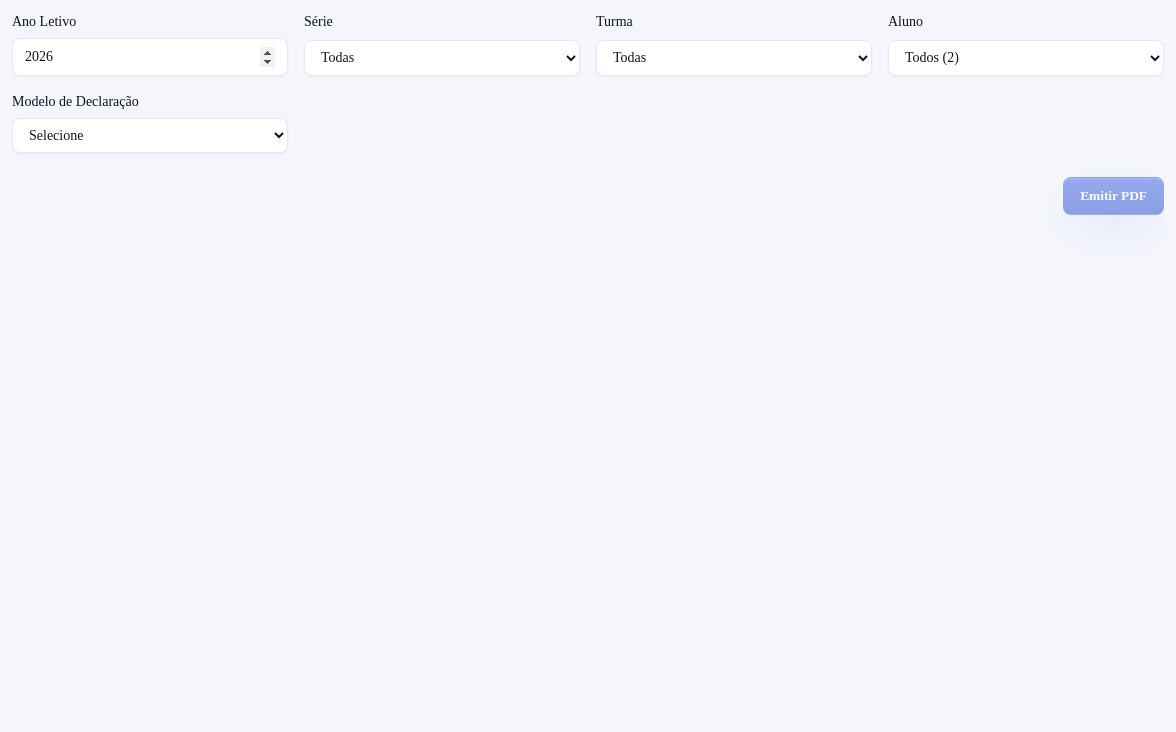
DeclaracaoEmissaoForm › emissão em lote (sem aluno selecionado): campos de pré-visualização ficam somente leitura
Select "Declaração de Frequência" in the dropdown labelled "Modelo de Declaração". click: x=150, y=136
box: [12, 118, 288, 153]
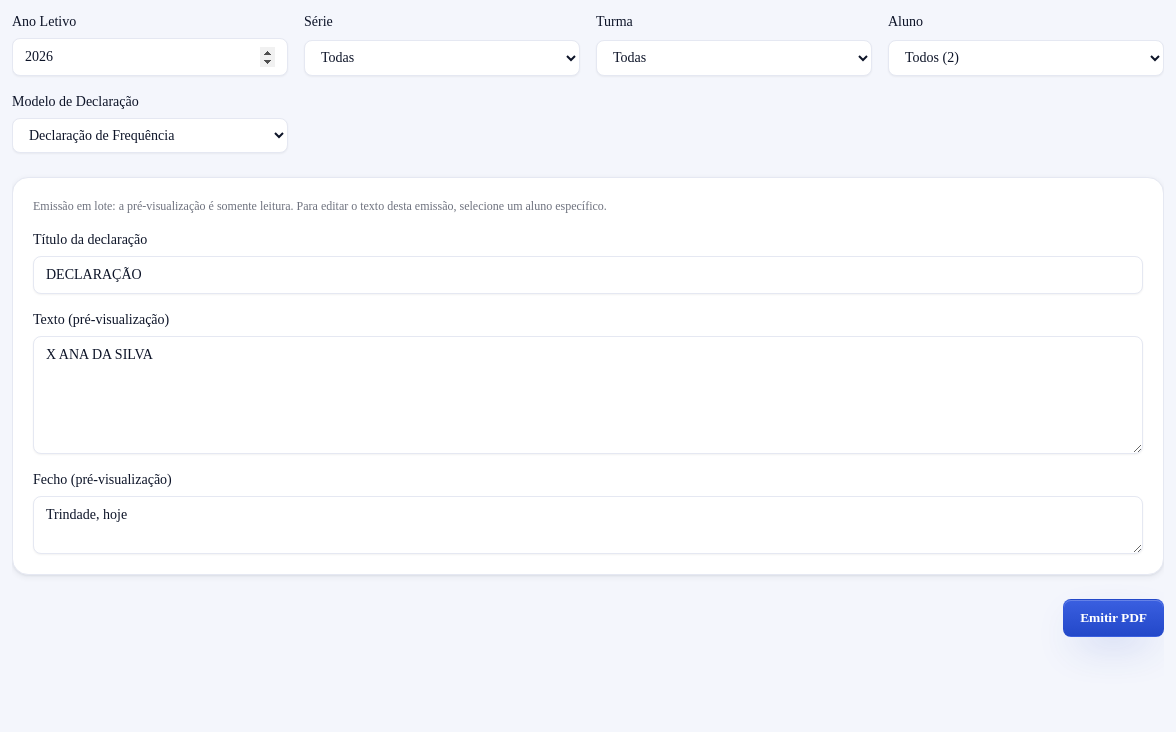
Now the text box showing "X ANA DA SILVA" is shown, box [33, 336, 1143, 454]
Now the text "Emissão em lote" is shown, box [33, 199, 607, 213]
